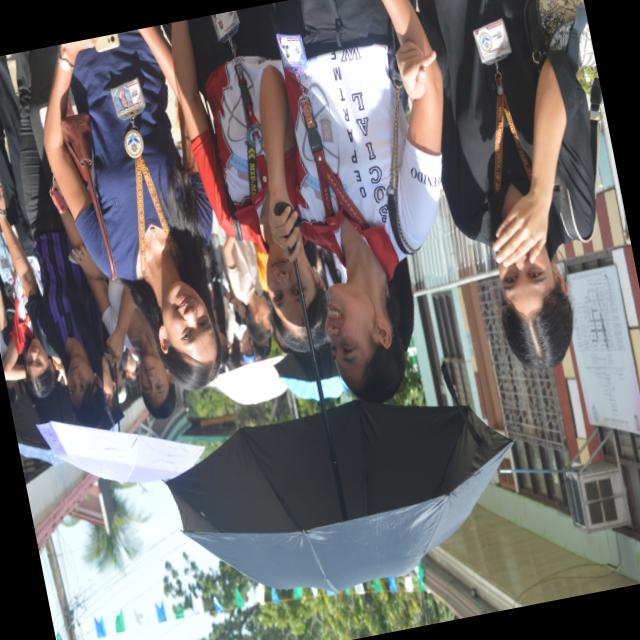person: (259, 0, 441, 401), (418, 0, 594, 367), (44, 27, 219, 389), (171, 6, 308, 350), (0, 46, 107, 426), (59, 207, 175, 418), (0, 57, 40, 285), (223, 235, 270, 341)
